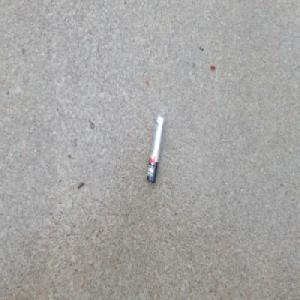Battery: (146, 115, 164, 186)
